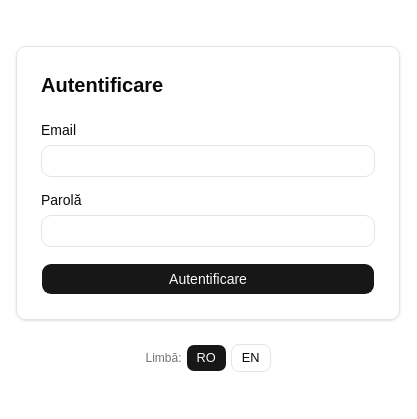
Test: LoginPage — error classification › disabled account → its own message
Type "admin@test.ro" into the field labelled "Email".
click(208, 161); type("admin@test.ro")  # box [41,145,375,177]
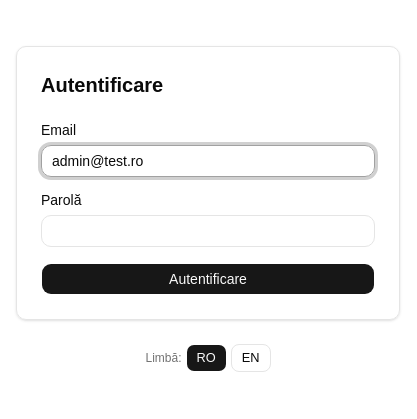
Type "secret" into the password field labelled "Parolă".
click(208, 231); type("secret")  # box [41,215,375,247]
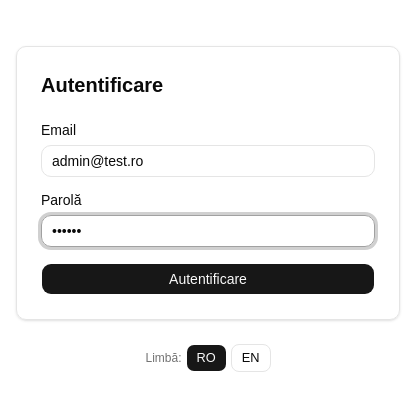
Click the button "Autentificare".
click(208, 279)  # box [41,263,375,295]
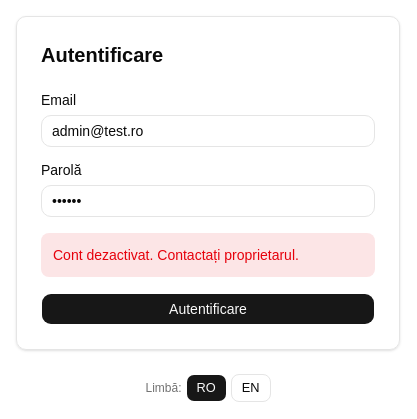
expect the message shows "Cont dezactivat": met, box [53,247,299,263]
